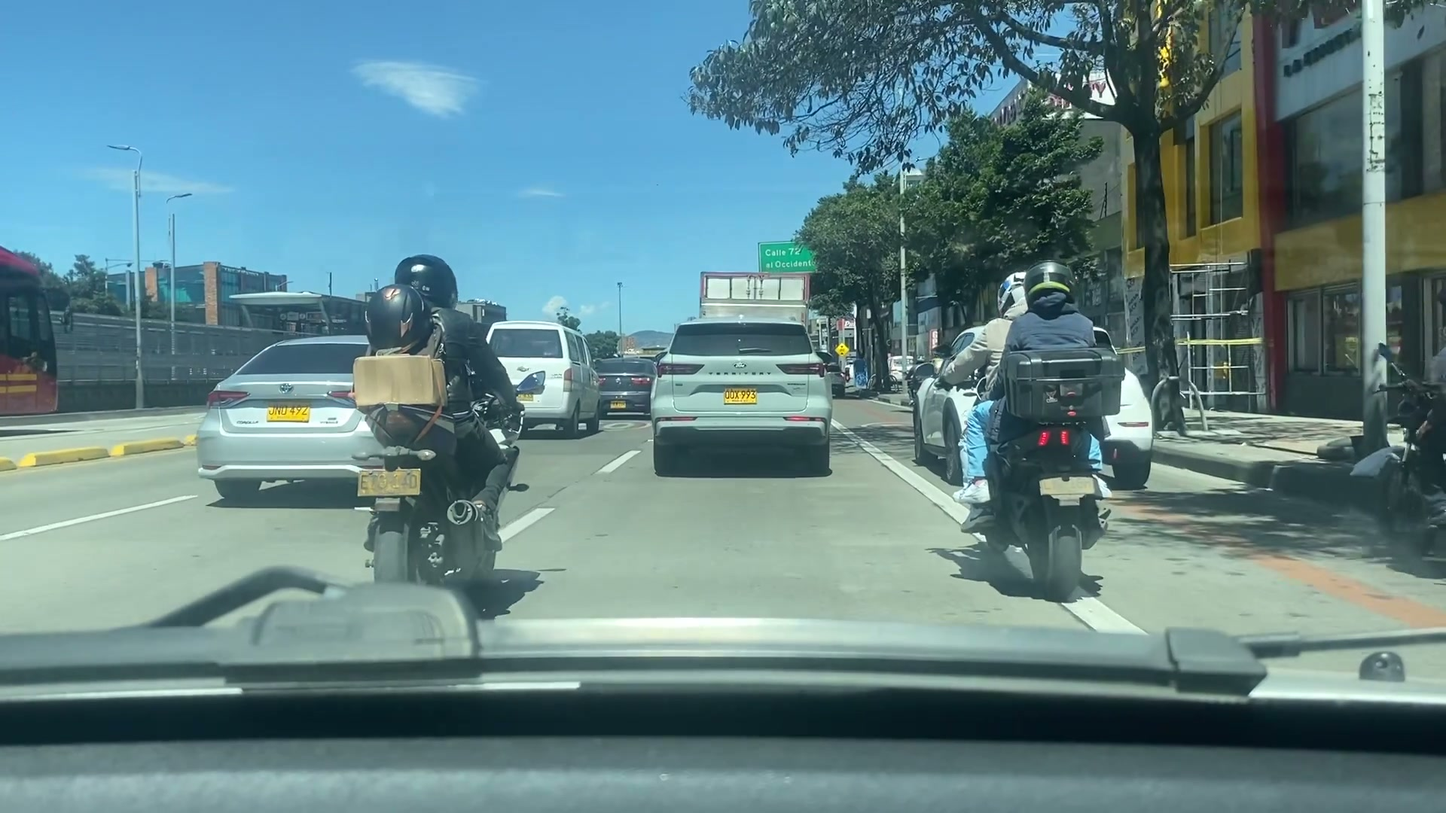bus: (480, 318, 597, 434)
car: (905, 327, 1157, 488), (192, 327, 407, 504), (648, 315, 835, 474), (597, 356, 652, 417)
motorcycle: (354, 416, 525, 590)
person: (371, 254, 518, 555), (968, 262, 1117, 529)
truck: (695, 273, 812, 320)
